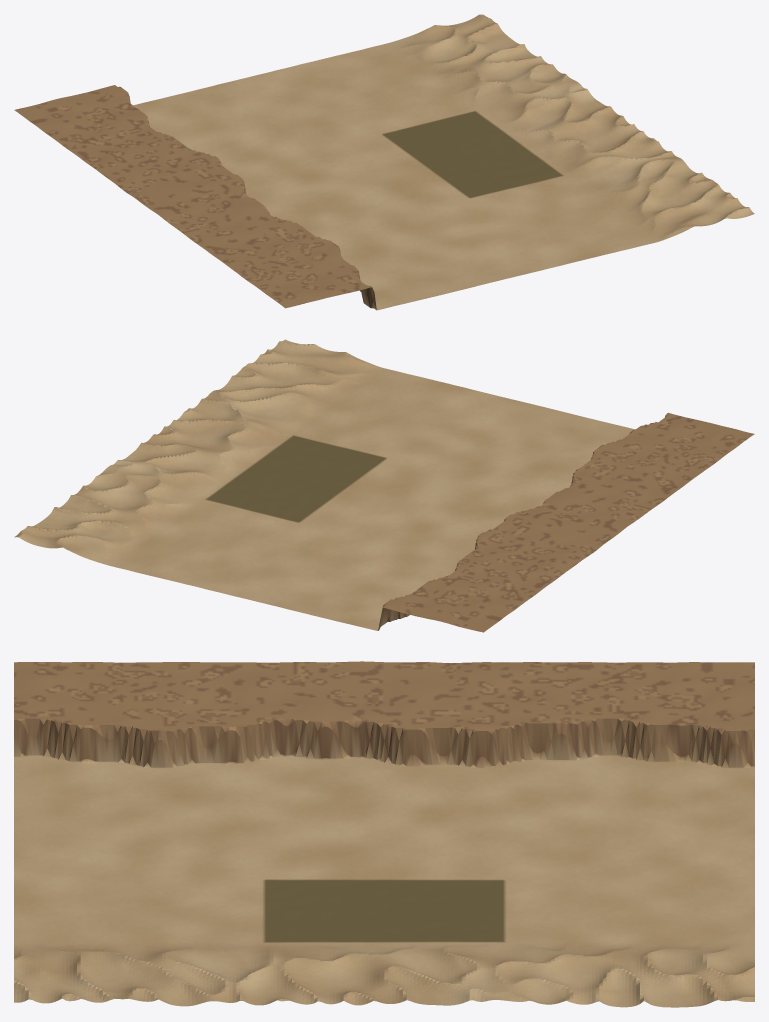
The model's file is terrain.glb.
3 renders of one model, top to bottom at view 1: azimuth 30°, elevation 25°; view 2: azimuth 150°, elevation 25°; view 3: azimuth 270°, elevation 25°, orthographic. The views are drawn at different scales.
Visible parts, largest first — view 1: Terrain_2_-3, Terrain_2_-1, Terrain_2_-2, Terrain_2_0, Terrain_1_-2, Terrain_1_2, Terrain_2_1, Terrain_1_1, Terrain_1_-3, Terrain_2_2, Terrain_1_0, Terrain_-3_-2 (+48 smaller); view 2: Terrain_2_1, Terrain_2_-2, Terrain_2_-3, Terrain_2_2, Terrain_2_0, Terrain_1_2, Terrain_1_1, Terrain_1_-2, Terrain_1_-3, Terrain_1_0, Terrain_-3_-3, Terrain_-3_-2 (+47 smaller); view 3: Terrain_-2_-2, Terrain_-2_0, Terrain_-2_2, Terrain_-2_-3, Terrain_-2_1, Terrain_-2_-1, Terrain_-3_1, Terrain_-3_-1, Terrain_-3_-3, Terrain_-3_2, Terrain_-1_-2, Terrain_-3_-2 (+48 smaller).
Boxes of the visible parts, x1,y1,x2,y2 form: Terrain_2_-3: (615, 178, 732, 232); Terrain_2_-1: (531, 119, 646, 169); Terrain_2_-2: (573, 151, 689, 200); Terrain_2_0: (488, 85, 604, 139); Terrain_1_-2: (500, 170, 616, 220); Terrain_1_2: (330, 46, 445, 96); Terrain_2_1: (447, 58, 562, 108); Terrain_1_1: (373, 77, 488, 127); Terrain_1_-3: (542, 202, 659, 251); Terrain_2_2: (404, 26, 519, 77); Terrain_1_0: (416, 109, 531, 158); Terrain_-3_-2: (206, 218, 321, 267); Terrain_2_1: (79, 471, 195, 524); Terrain_2_-2: (206, 378, 321, 432); Terrain_2_-3: (249, 349, 364, 401); Terrain_2_2: (36, 506, 153, 556); Terrain_2_0: (122, 443, 236, 494); Terrain_1_2: (110, 526, 226, 575); Terrain_1_1: (153, 495, 268, 544); Terrain_1_-2: (280, 402, 395, 451); Terrain_1_-3: (323, 370, 438, 420); Terrain_1_0: (196, 463, 311, 513); Terrain_-3_-3: (616, 419, 732, 467); Terrain_-3_-2: (573, 450, 690, 499); Terrain_-2_-2: (151, 720, 269, 803); Terrain_-2_0: (384, 720, 499, 803); Terrain_-2_2: (614, 720, 732, 803); Terrain_-2_-3: (36, 719, 154, 803); Terrain_-2_1: (499, 720, 617, 803); Terrain_-2_-1: (269, 720, 384, 803); Terrain_-3_1: (499, 670, 617, 754); Terrain_-3_-1: (269, 671, 384, 754); Terrain_-3_-3: (36, 671, 154, 754); Terrain_-3_2: (614, 671, 732, 754); Terrain_-1_-2: (151, 803, 269, 852); Terrain_-3_-2: (151, 671, 269, 723).
Size of the model in its own units: 800 by 41.78 by 800.
